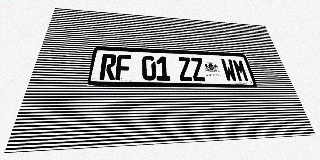0: (142, 55, 156, 81)
1: (156, 56, 170, 81)
F: (115, 54, 131, 80)
M: (232, 59, 250, 82)
R: (99, 54, 117, 80)
W: (220, 59, 238, 82)
Z: (177, 57, 193, 81), (190, 57, 206, 81)
